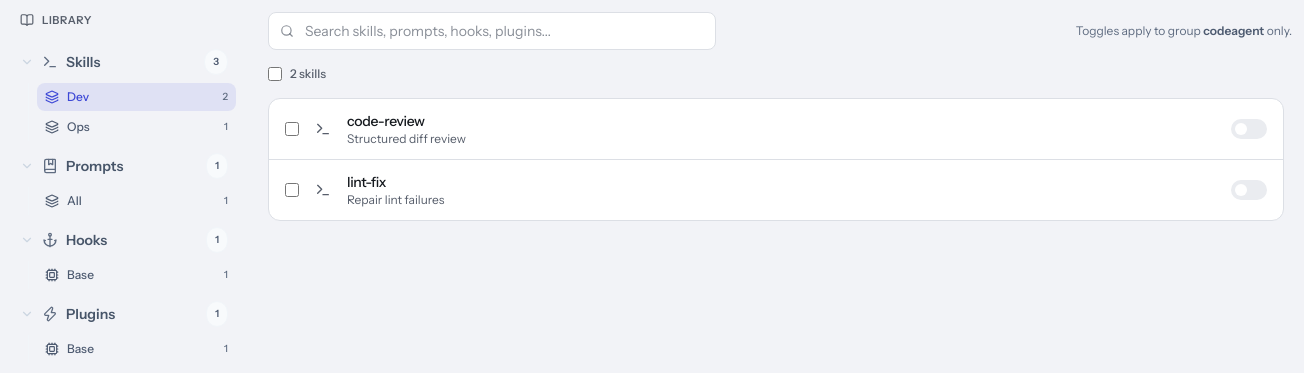
ResourceHub search › one search box matches across every kind at once
Expected: the heading "code-review" is shown, [347,111,425,131]
Step 1. Type "lint" into the field named "Search all resources" → (492, 31), box [268,12,716,50]
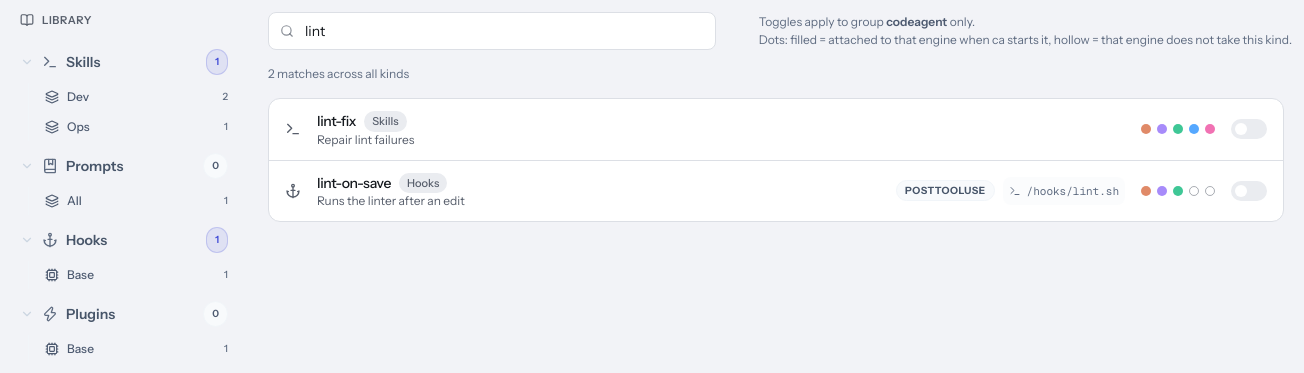
Expected: the heading "lint-fix" is shown, [317,111,356,131]
Expected: the heading "lint-on-save" is shown, [317,173,391,193]
Expected: the text "2 matches across all kinds" is shown, [268,66,409,81]
